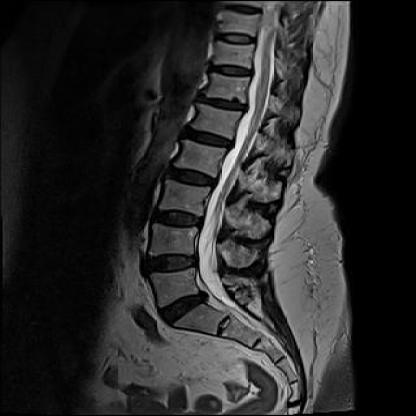Disc Bulgerotation: (154, 294, 216, 322)
Disc Relaxationrotation: (165, 163, 222, 190), (143, 249, 200, 276), (150, 205, 207, 232)
